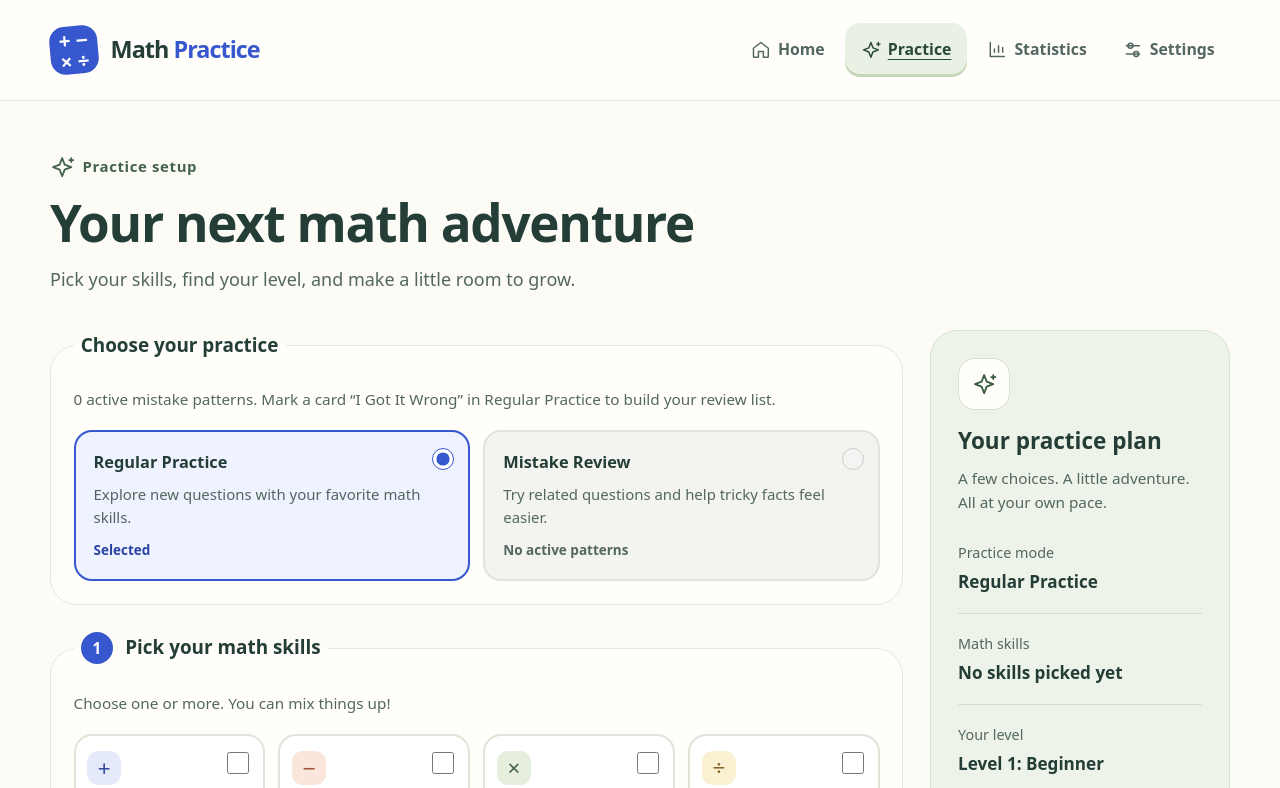
uses the default difficulty and disables Start when all operations are removed
What coordinates should you click on to do the following:
click the checkbox labelled "Addition"
I would click on:
 (238, 763)
Its box is [227, 752, 249, 774].
(page scrolled)
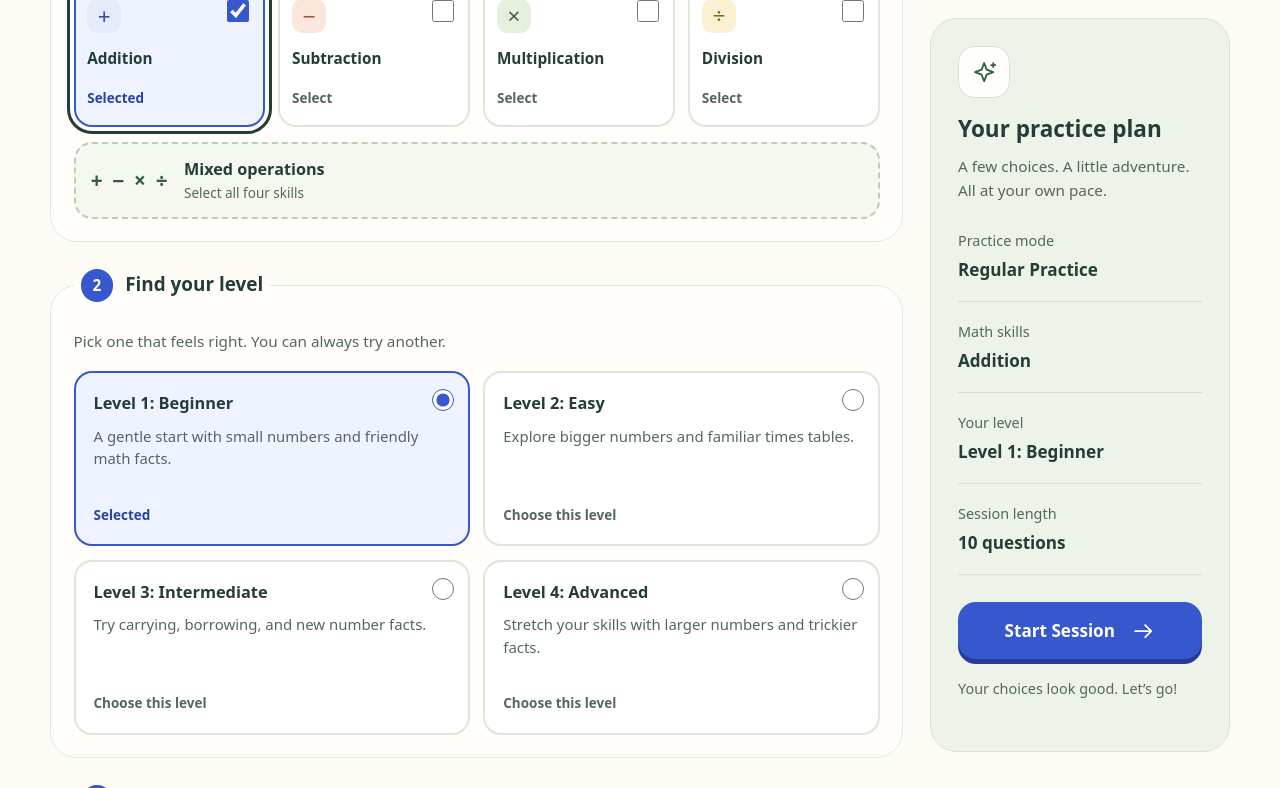
Result: the button "Start Session" is enabled at [958, 602, 1202, 660]
Result: the message reads "Your choices look good. Let’s go!" at [958, 680, 1177, 698]
What coordinates should you click on to do the following:
click the radio button labelled "Level 1: Beginner"
I would click on:
 (443, 400)
Its box is [432, 389, 454, 411].
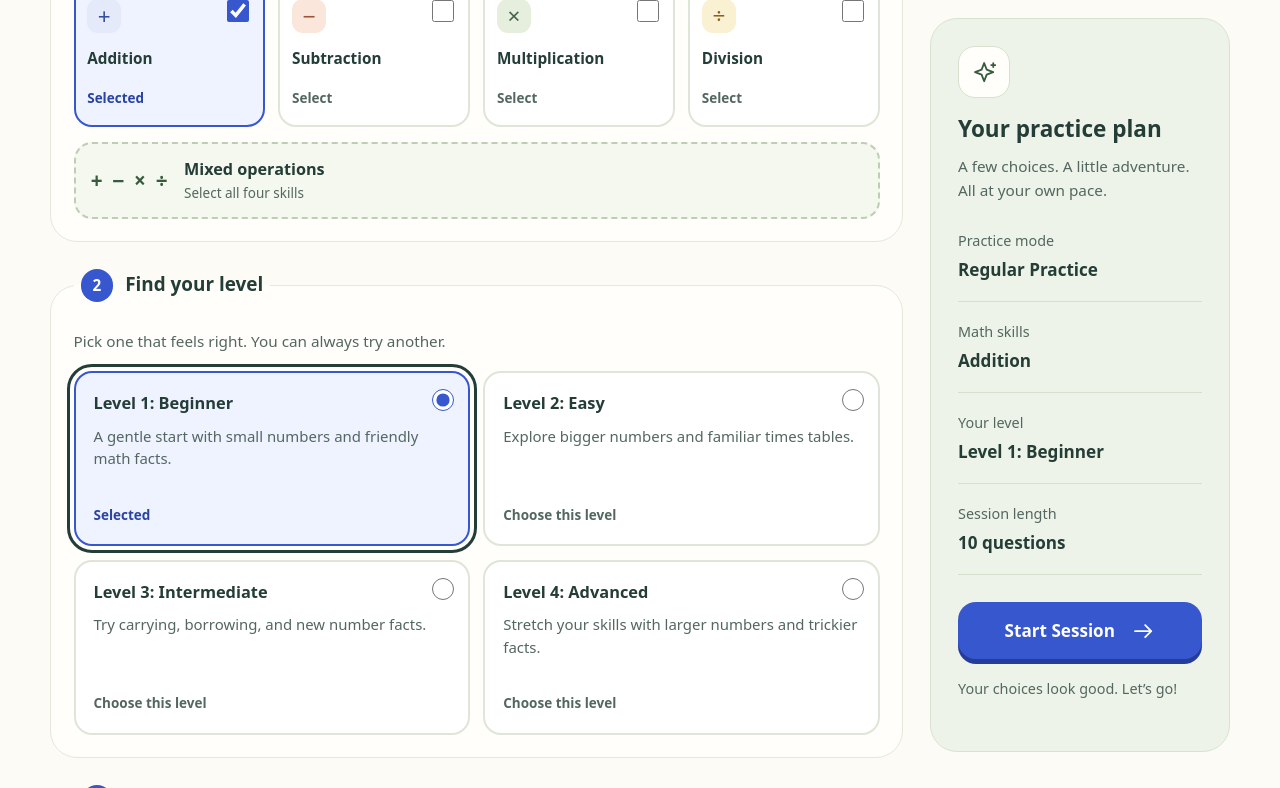
Result: the button "Start Session" is enabled at [958, 602, 1202, 660]
What coordinates should you click on to do the following:
click the checkbox labelled "Addition"
I would click on:
 (238, 11)
Its box is [227, 0, 249, 22].
(page scrolled)
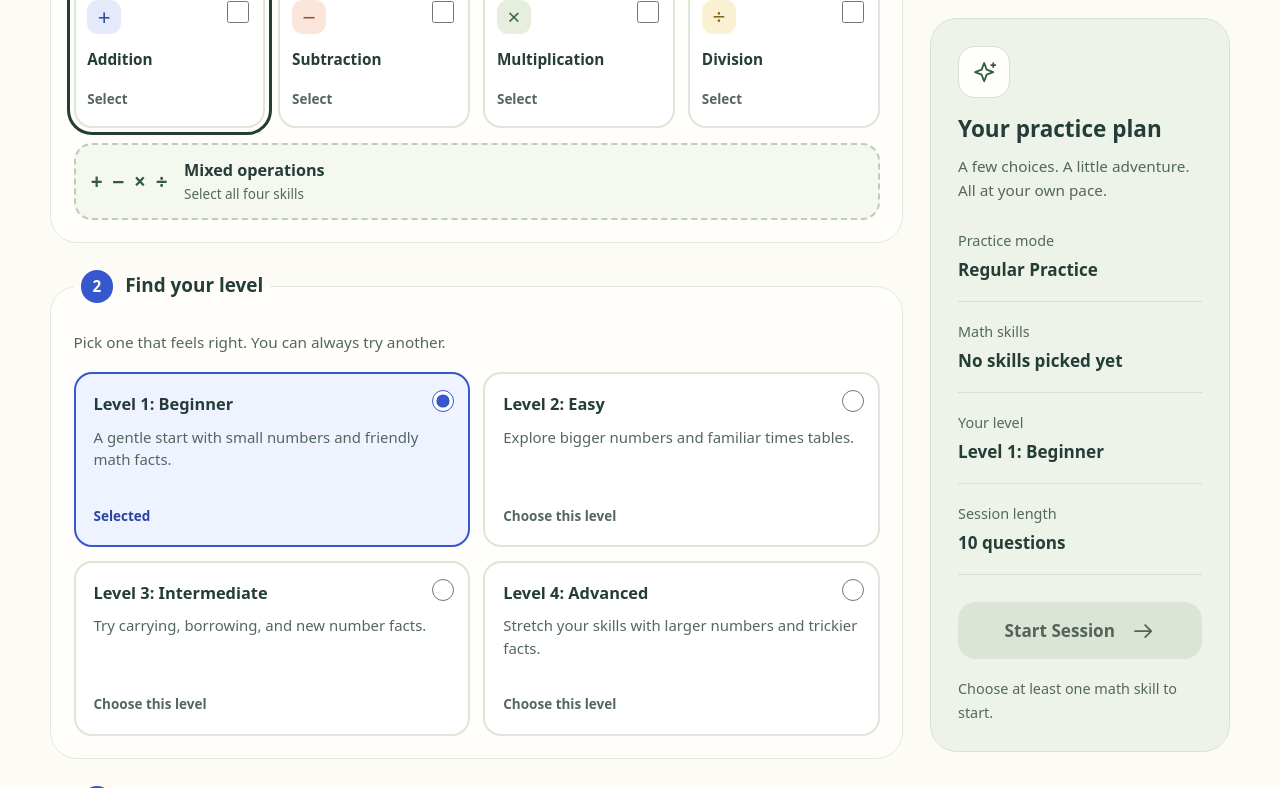
Result: the button "Start Session" is disabled at [958, 602, 1202, 660]
Result: the message reads "Choose at least one math skill to start." at [958, 680, 1177, 722]
